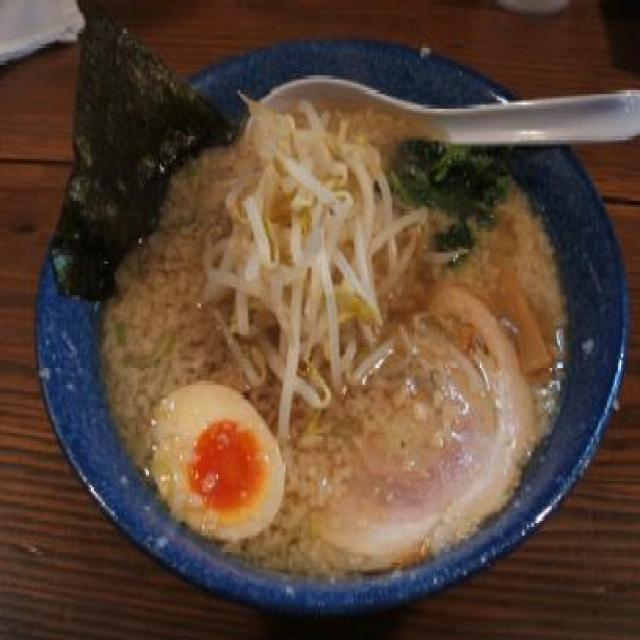面条主食: (20, 21, 632, 621)
